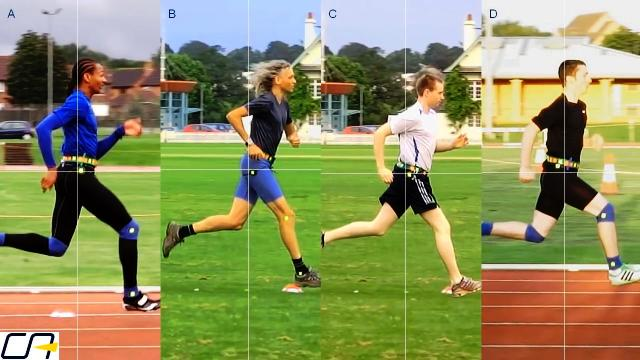berlari: (4, 56, 158, 314), (482, 55, 640, 292), (162, 56, 322, 284), (327, 70, 481, 303)
